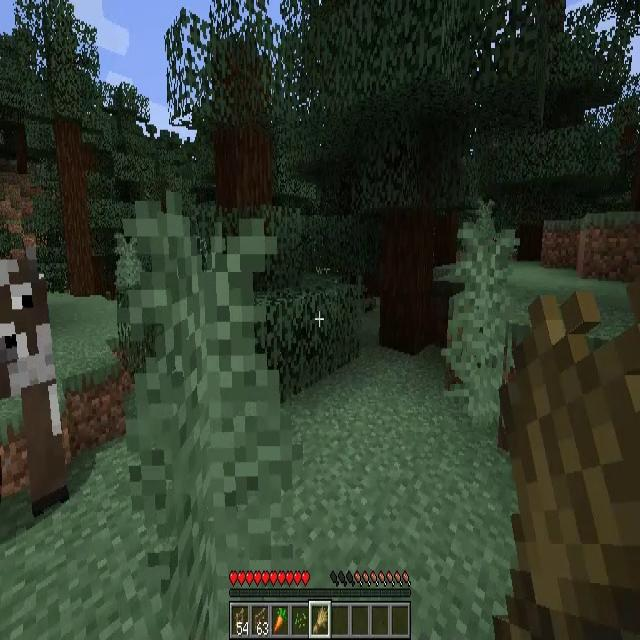cow: (1, 257, 67, 498)
